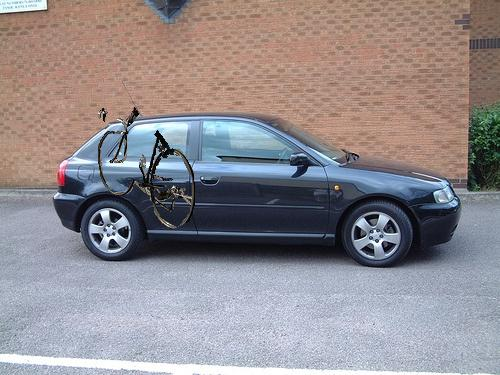tampered: (99, 108, 195, 229)
